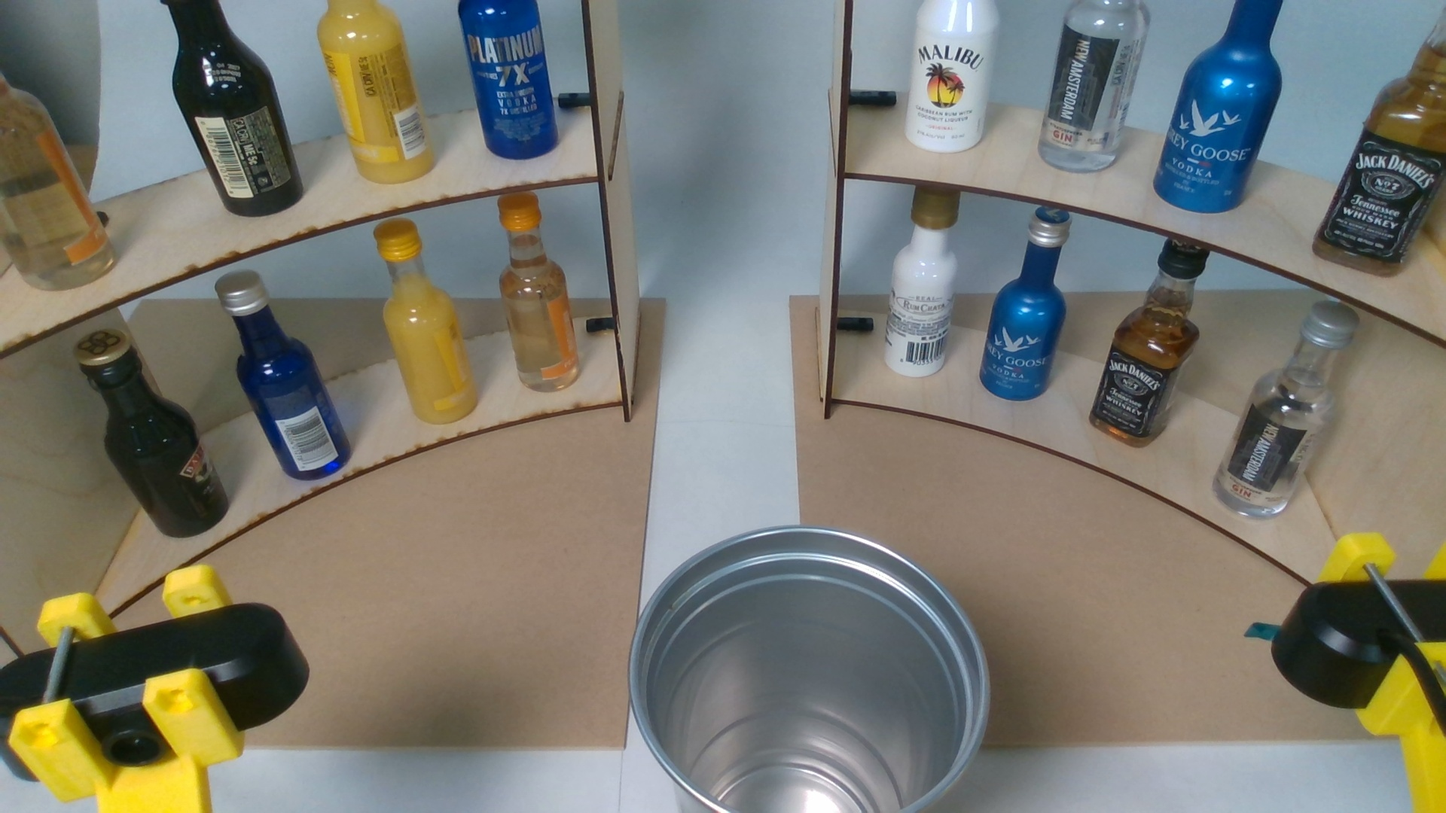coke: (73, 328, 229, 538), (162, 0, 303, 217)
gin: (1213, 301, 1359, 515), (1036, 0, 1150, 174)
ginger_beer: (0, 71, 118, 295), (498, 189, 581, 395)
orange_juice: (314, 0, 437, 182), (374, 219, 480, 422)
tequila: (904, 0, 1004, 154)
tonic_water: (216, 271, 353, 481), (458, 0, 563, 159)
vodka: (1153, 0, 1284, 211), (980, 208, 1074, 398)
whiskey: (1312, 1, 1446, 276), (1088, 238, 1213, 452)
